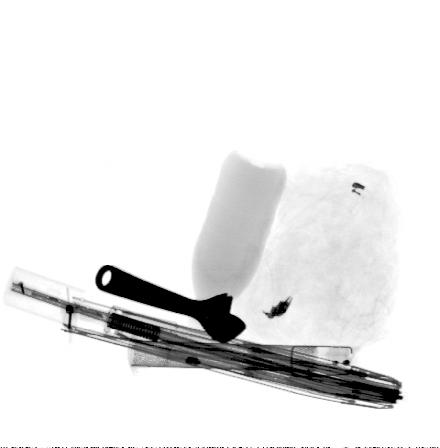Wrench: (94, 262, 251, 346)
